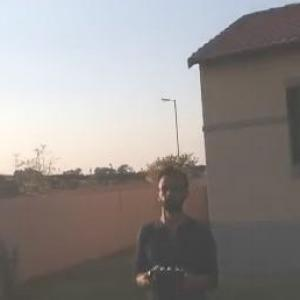follow: (127, 164, 224, 299)
